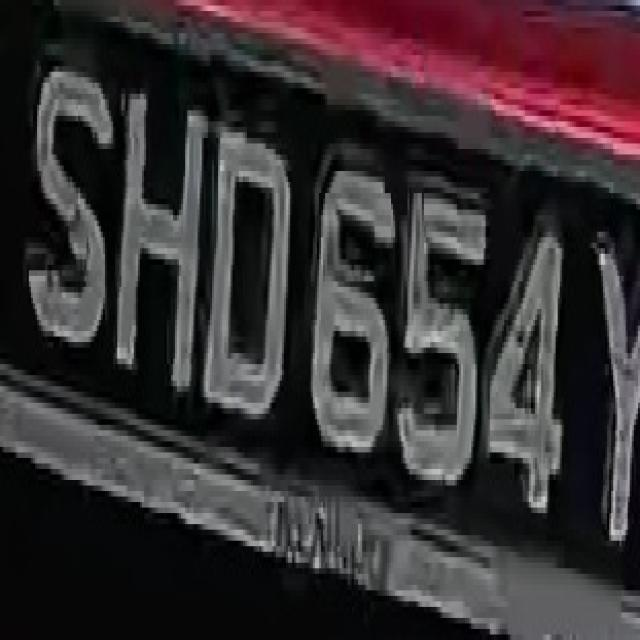4: (490, 193, 568, 508)
5: (399, 171, 488, 502)
6: (311, 132, 399, 469)
D: (208, 94, 294, 441)
H: (113, 50, 204, 397)
S: (27, 39, 113, 375)
Y: (578, 226, 636, 574)
